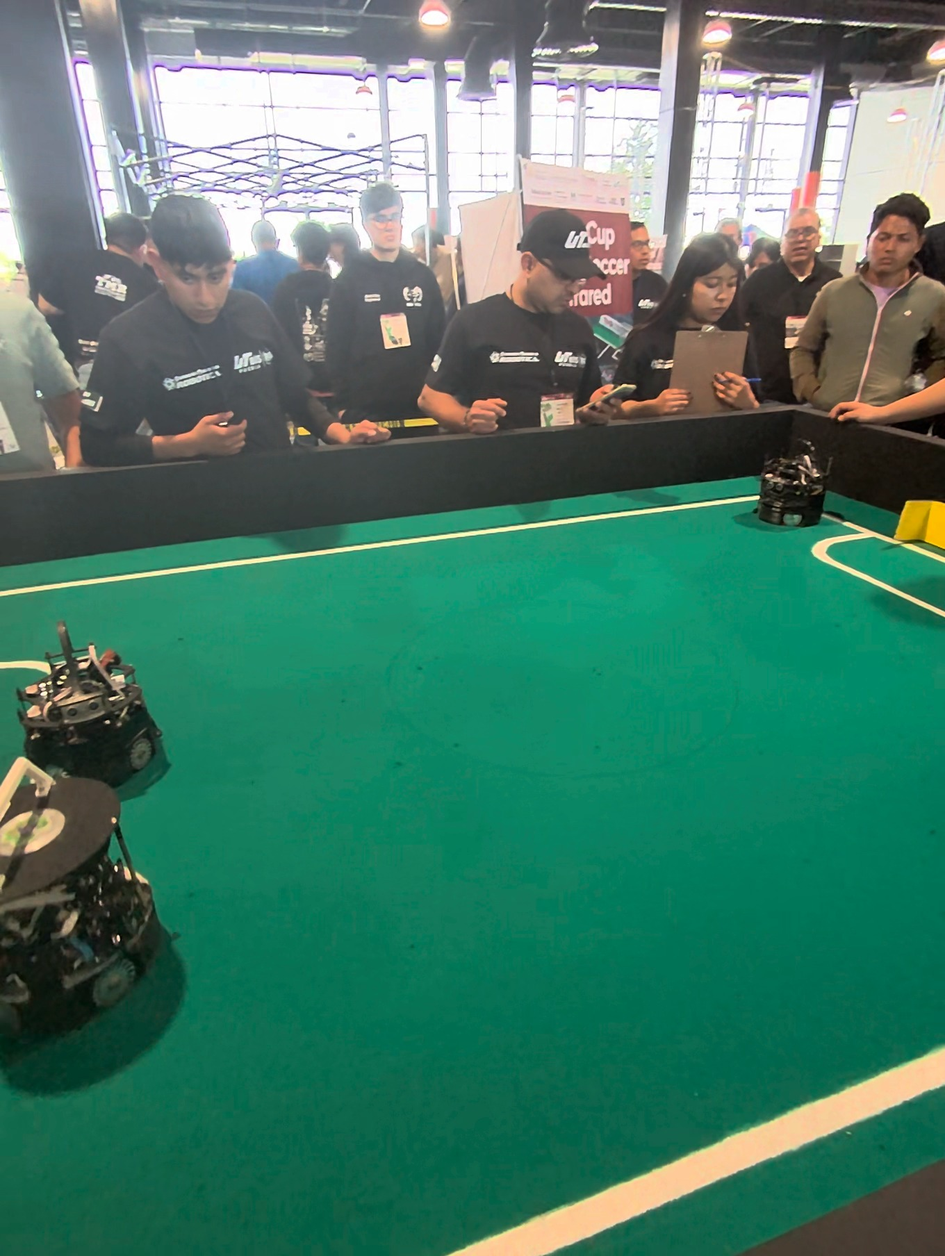Robot: (0, 789, 180, 1100), (15, 620, 172, 793), (750, 421, 828, 531)
